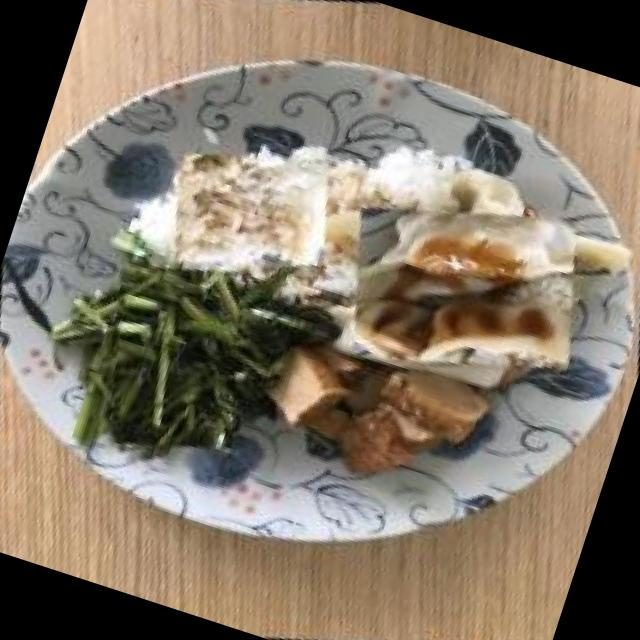fried_dumplings: (316, 154, 615, 424)
rice: (145, 115, 356, 306)
water_spinach: (61, 243, 292, 474)
